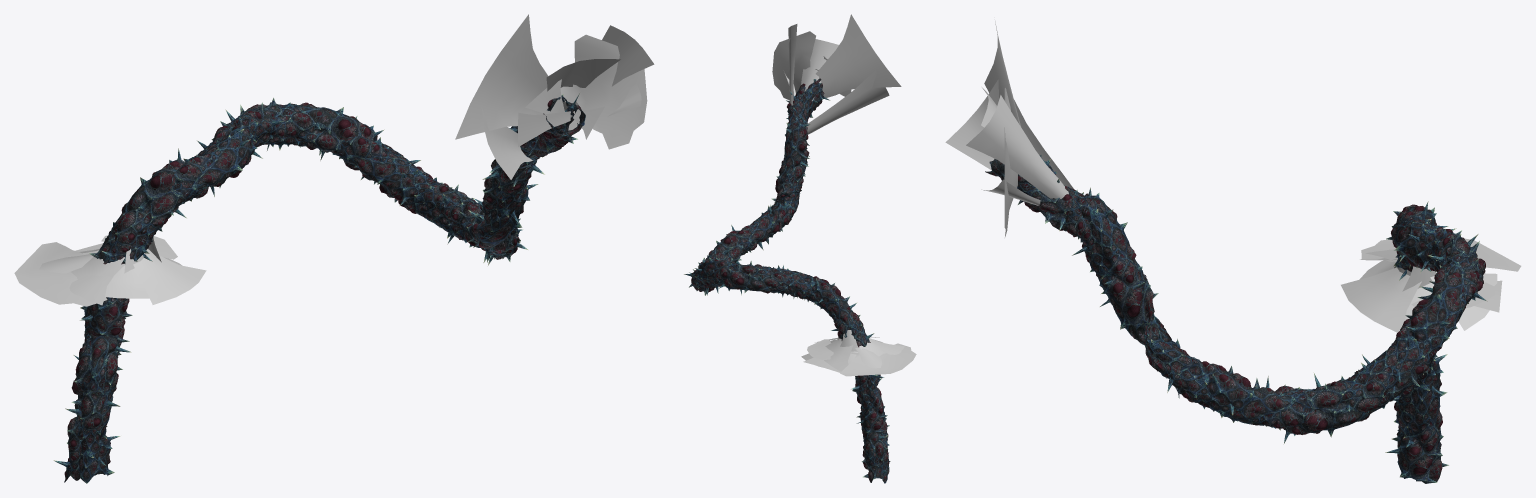
File: backup.fbx
3 views of the same model, side by side, from view 1: azimuth 30°, elevation 25°; view 2: azimuth 150°, elevation 25°; view 3: azimuth 270°, elevation 25° (orthographic). The views are drawn at different scales.
Visible parts, largest first — view 1: LODGroup_1_MainMesh_1_SubMesh_1, LODGroup_1_MainMesh_2_SubMesh_1, LODGroup_1_MainMesh_2_SubMesh_2; view 2: LODGroup_1_MainMesh_1_SubMesh_1, LODGroup_1_MainMesh_2_SubMesh_1, LODGroup_1_MainMesh_2_SubMesh_2; view 3: LODGroup_1_MainMesh_2_SubMesh_1, LODGroup_1_MainMesh_2_SubMesh_2, LODGroup_1_MainMesh_1_SubMesh_1.
Part boxes in pixels (x1,y1,x2,y2): LODGroup_1_MainMesh_1_SubMesh_1: [14, 14, 654, 306]; LODGroup_1_MainMesh_2_SubMesh_1: [53, 93, 585, 475]; LODGroup_1_MainMesh_2_SubMesh_2: [64, 94, 576, 483]; LODGroup_1_MainMesh_1_SubMesh_1: [772, 14, 916, 376]; LODGroup_1_MainMesh_2_SubMesh_1: [684, 91, 889, 482]; LODGroup_1_MainMesh_2_SubMesh_2: [691, 78, 890, 483]; LODGroup_1_MainMesh_2_SubMesh_1: [985, 159, 1487, 483]; LODGroup_1_MainMesh_2_SubMesh_2: [1039, 154, 1476, 478]; LODGroup_1_MainMesh_1_SubMesh_1: [945, 21, 1521, 332].
Size of the model in its own units: 1619 by 2049 by 1803.
